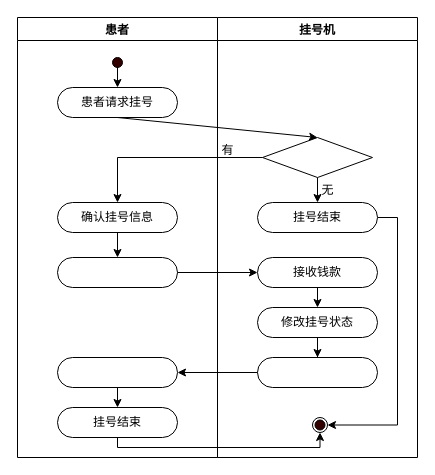
This 435x475 diagram has some shape labels left out. Here are the shapes that lost their labels. From the top down, the box of each, then its label:
(262, 136, 372, 178): 查询号源余量
(56, 256, 178, 288): 支付
(56, 356, 178, 388): 取走小票
(256, 356, 378, 388): 打印小票
